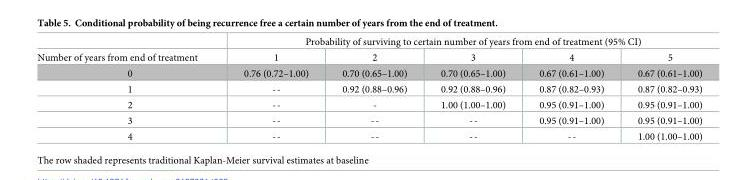table: (36, 36, 701, 141)
table column: (36, 36, 219, 141), (219, 36, 324, 141), (324, 36, 423, 141), (521, 36, 620, 141), (423, 36, 521, 141), (620, 36, 701, 141)
table column header: (36, 36, 701, 65)
table row: (36, 49, 701, 65), (36, 65, 701, 81), (36, 96, 701, 112), (36, 112, 701, 128), (36, 81, 701, 96), (36, 36, 701, 49), (36, 128, 701, 141)
table spanning cell: (219, 36, 701, 49), (36, 36, 219, 65)
